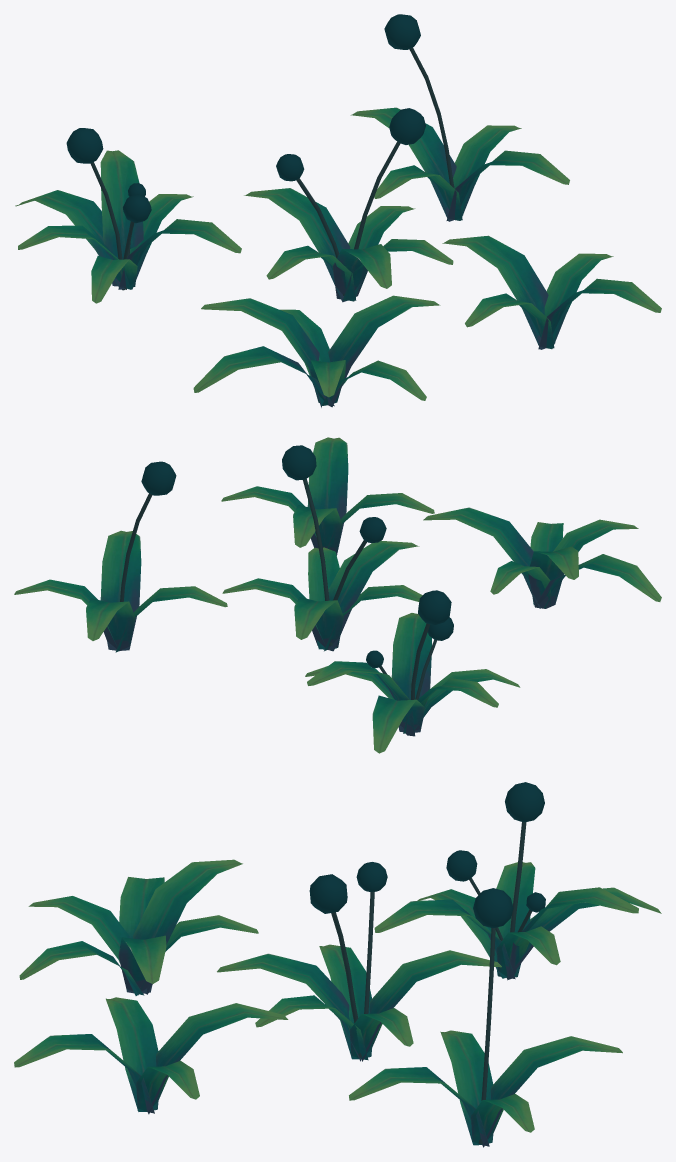
File: NAT_GlowPlants.glb
The picture shows the model from 3 angles, top to bottom: view 1: azimuth 30°, elevation 25°; view 2: azimuth 150°, elevation 25°; view 3: azimuth 270°, elevation 25°; orthographic projection. The views are drawn at different scales.
Parts seen in each view (by area): view 1: Flow1, Flow3, Leafs1, Flow2, Leafs2; view 2: Flow1, Flow3, Leafs1, Flow2, Leafs2; view 3: Flow3, Flow1, Leafs1, Flow2, Leafs2.
Boxes of the visible parts, x1,y1,x2,y2 form: Flow1: (15, 128, 241, 303); Flow3: (244, 108, 453, 302); Leafs1: (193, 295, 440, 407); Flow2: (350, 14, 569, 221); Leafs2: (442, 235, 661, 349); Flow1: (305, 590, 520, 753); Flow3: (222, 445, 422, 651); Leafs1: (423, 507, 661, 608); Flow2: (14, 461, 227, 652); Leafs2: (221, 437, 434, 555); Flow3: (217, 862, 501, 1061); Flow1: (374, 782, 661, 980); Leafs1: (19, 859, 258, 995); Flow2: (349, 888, 622, 1147); Leafs2: (14, 997, 288, 1114).
Bounding box in the file's own units: 0.3114 × 0.1263 × 0.3194.
Materials: 1 (1 with a texture image).
